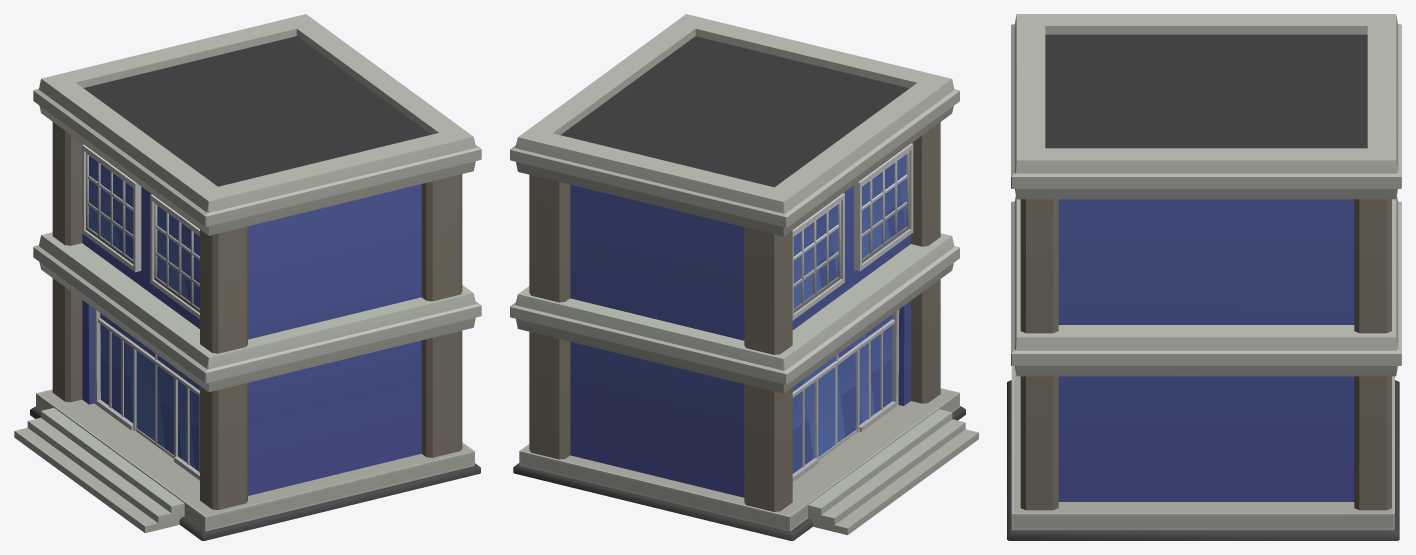
Rendered from Building_9_2_EE.fbx.
3 views of the same model, side by side, from view 1: azimuth 30°, elevation 25°; view 2: azimuth 150°, elevation 25°; view 3: azimuth 270°, elevation 25° (orthographic). The views are drawn at different scales.
Visible parts, largest first — view 1: Building_9_2_EE; view 2: Building_9_2_EE; view 3: Building_9_2_EE.
Boxes of the visible parts, left/top/right/bottom form: Building_9_2_EE: left=14, top=14, right=481, bottom=540; Building_9_2_EE: left=510, top=14, right=978, bottom=540; Building_9_2_EE: left=1007, top=14, right=1401, bottom=540.
Size of the model in its own units: 947 by 958 by 906.
